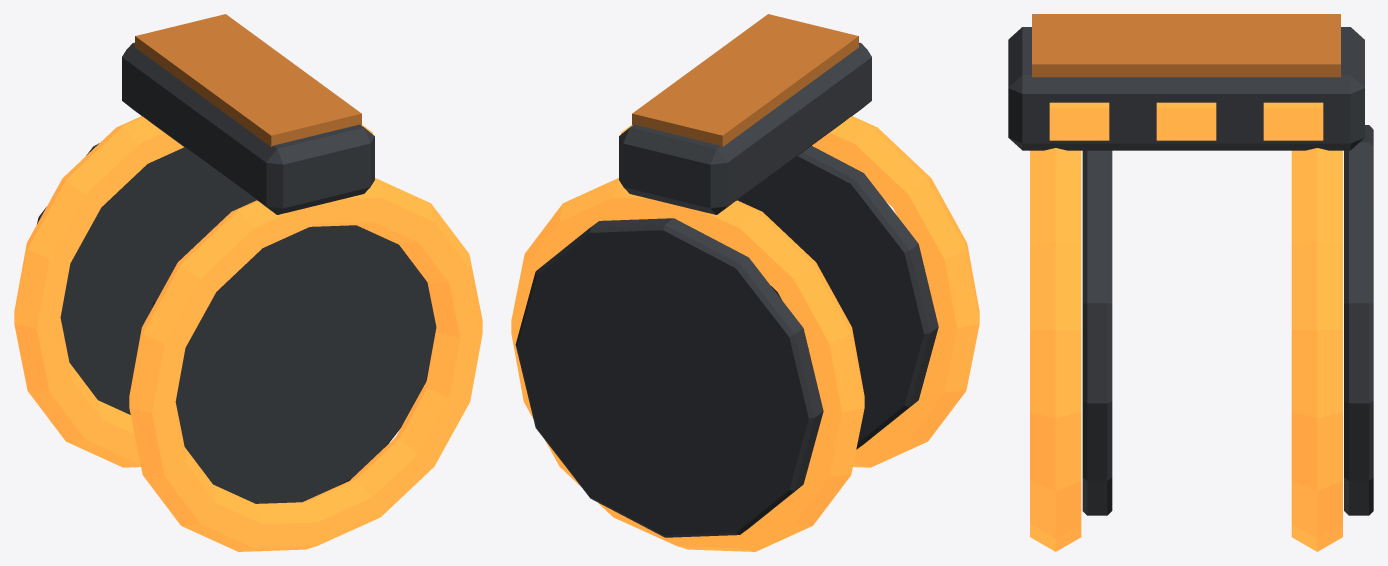
The model's file is TC_PLAYER_ArmCoil_V1.gltf.
3 renders of one model, left to right at view 1: azimuth 30°, elevation 25°; view 2: azimuth 150°, elevation 25°; view 3: azimuth 270°, elevation 25°, orthographic. The views are drawn at different scales.
Visible parts, largest first — view 1: TC_Coil_Band_0, TC_Coil_Ring_0, TC_Coil_Band_1, TC_Coil_Ring_1, TC_Coil_Capacitor, TC_Coil_CapacitorStripe; view 2: TC_Coil_Band_1, TC_Coil_Ring_1, TC_Coil_Band_0, TC_Coil_Ring_0, TC_Coil_Capacitor, TC_Coil_CapacitorStripe; view 3: TC_Coil_Capacitor, TC_Coil_Ring_1, TC_Coil_Ring_0, TC_Coil_CapacitorStripe, TC_Coil_Band_0, TC_Coil_Band_1, TC_Coil_Cell_0, TC_Coil_Cell_1, TC_Coil_Cell_2.
Part boxes in pixels (<box>): TC_Coil_Band_0: <box>152,225,436,503</box>; TC_Coil_Ring_0: <box>129,178,482,551</box>; TC_Coil_Band_1: <box>37,143,256,414</box>; TC_Coil_Ring_1: <box>14,116,183,467</box>; TC_Coil_Capacitor: <box>122,42,374,214</box>; TC_Coil_CapacitorStripe: <box>135,14,361,146</box>; TC_Coil_Band_1: <box>515,218,823,537</box>; TC_Coil_Ring_1: <box>511,178,864,551</box>; TC_Coil_Band_0: <box>737,146,938,449</box>; TC_Coil_Ring_0: <box>812,116,979,467</box>; TC_Coil_Capacitor: <box>619,42,871,214</box>; TC_Coil_CapacitorStripe: <box>632,14,858,146</box>; TC_Coil_Capacitor: <box>1008,27,1364,150</box>; TC_Coil_Ring_1: <box>1291,148,1342,551</box>; TC_Coil_Ring_0: <box>1030,148,1081,551</box>; TC_Coil_CapacitorStripe: <box>1032,14,1340,77</box>; TC_Coil_Band_0: <box>1082,150,1112,515</box>; TC_Coil_Band_1: <box>1344,125,1373,515</box>; TC_Coil_Cell_0: <box>1049,102,1109,140</box>; TC_Coil_Cell_1: <box>1156,102,1216,140</box>; TC_Coil_Cell_2: <box>1263,102,1323,140</box>.
Bounding box in the file's own units: 0.39 × 0.456 × 0.3075.
